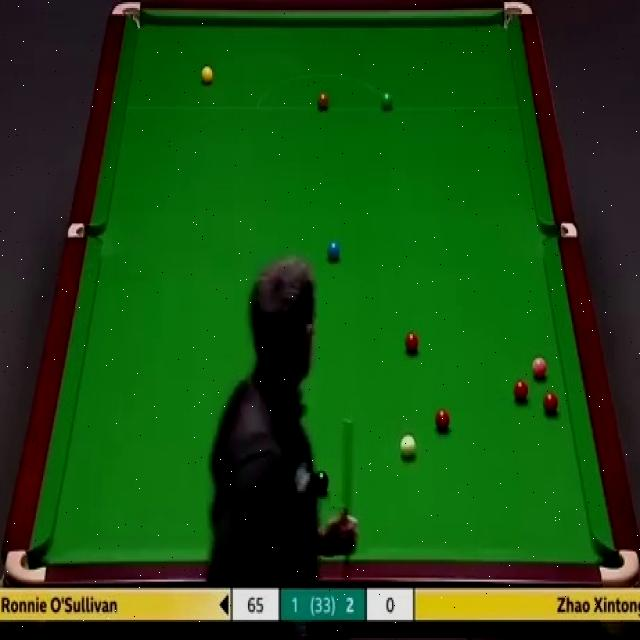black-ball: (315, 468, 329, 491)
blue-ball: (328, 240, 340, 263)
brown-ball: (318, 93, 330, 111)
green-ball: (381, 91, 393, 111)
pink-ball: (532, 355, 548, 381)
red-ball: (433, 408, 451, 433), (405, 329, 420, 354), (513, 380, 529, 402), (544, 393, 558, 416)
white-ball: (398, 431, 417, 459)
yellow-ball: (200, 66, 215, 87)
